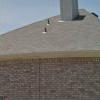Chimney: (54, 1, 83, 22)
